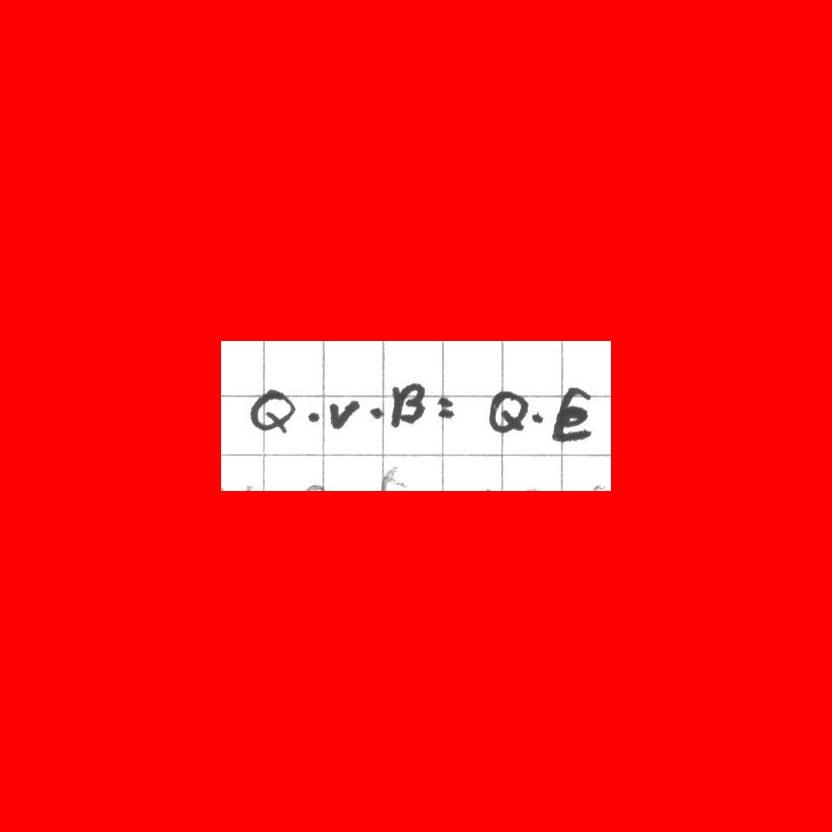Char: (547, 379, 594, 448), (246, 383, 297, 434), (390, 378, 430, 429), (486, 387, 528, 433), (327, 395, 360, 431), (434, 390, 458, 423), (305, 404, 324, 426), (368, 398, 387, 419), (529, 409, 547, 428)
